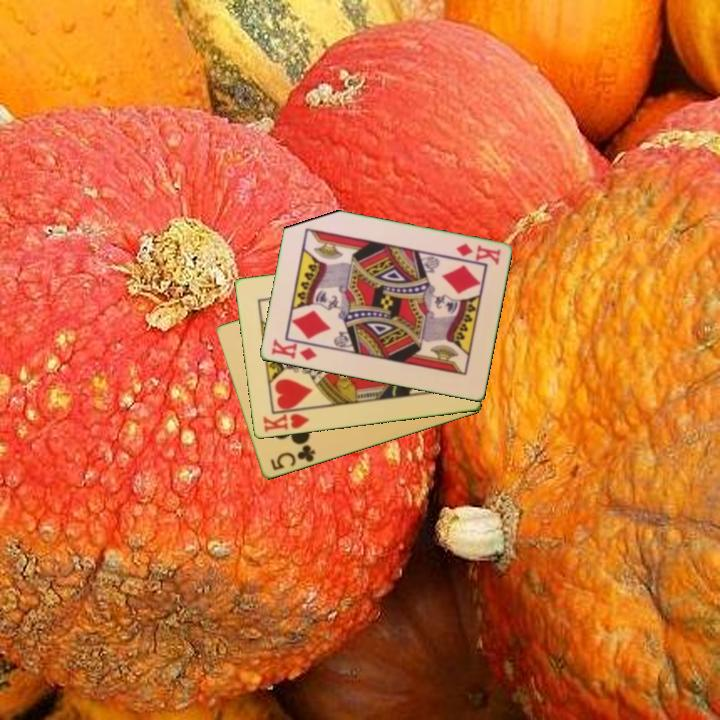5c: (267, 441, 318, 474)
Kd: (267, 335, 319, 364), (452, 240, 503, 267)
Kh: (259, 406, 313, 435)
